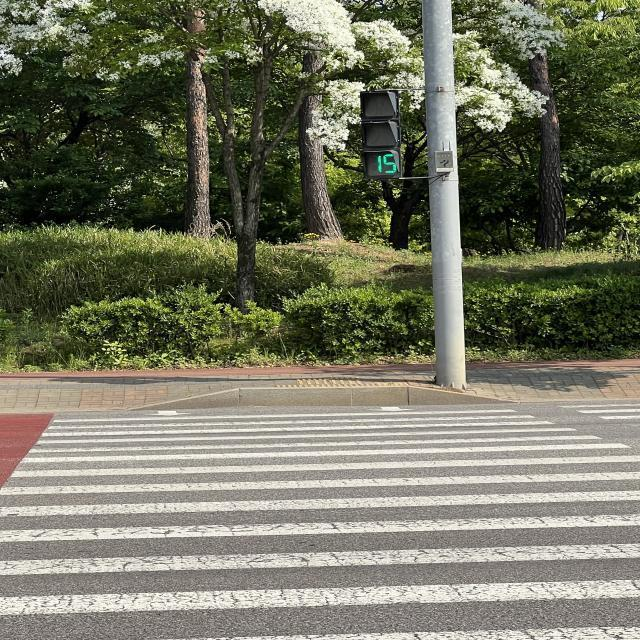crosswalk: (2, 397, 640, 640)
geen-crossing: (362, 84, 416, 199)
